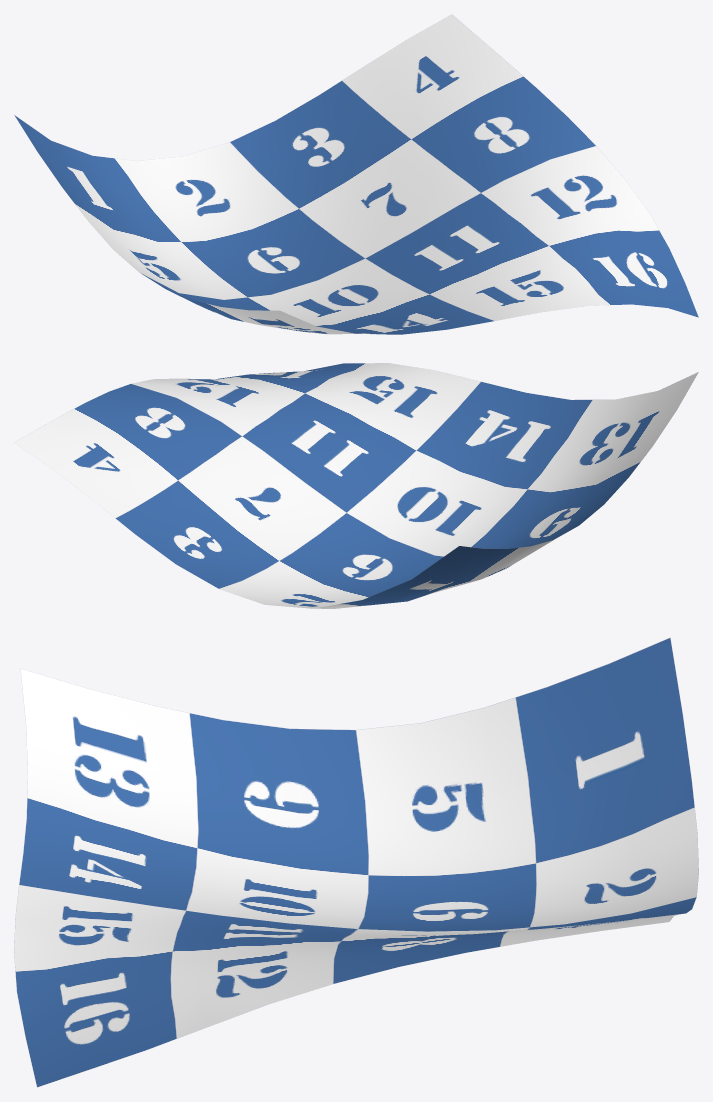
Rendered from Rui_UpWeb5.fbx.
The picture shows the model from 3 angles, top to bottom: view 1: azimuth 30°, elevation 25°; view 2: azimuth 150°, elevation 25°; view 3: azimuth 270°, elevation 25°; orthographic projection. The views are drawn at different scales.
Visible parts, largest first — view 1: SM_e_Plc_P1007_Upweb003; view 2: SM_e_Plc_P1007_Upweb003; view 3: SM_e_Plc_P1007_Upweb003.
Boxes of the visible parts, <box> form: SM_e_Plc_P1007_Upweb003: <box>14,14,698,334</box>; SM_e_Plc_P1007_Upweb003: <box>14,363,698,608</box>; SM_e_Plc_P1007_Upweb003: <box>14,637,698,1087</box>.
Size of the model in its own units: 218 by 60.32 by 219.
